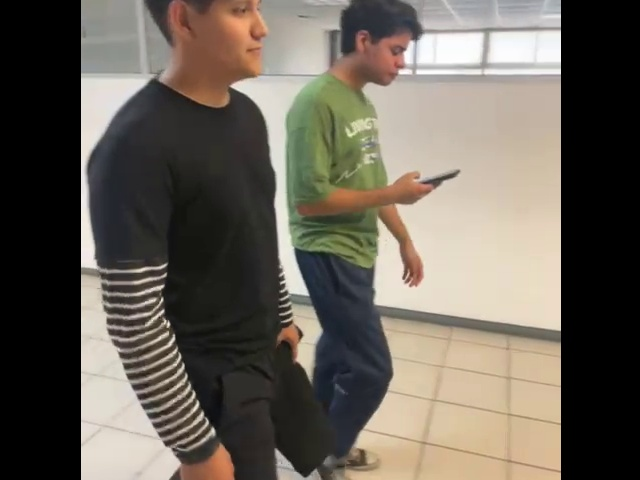mixto2: (410, 163, 461, 186)
